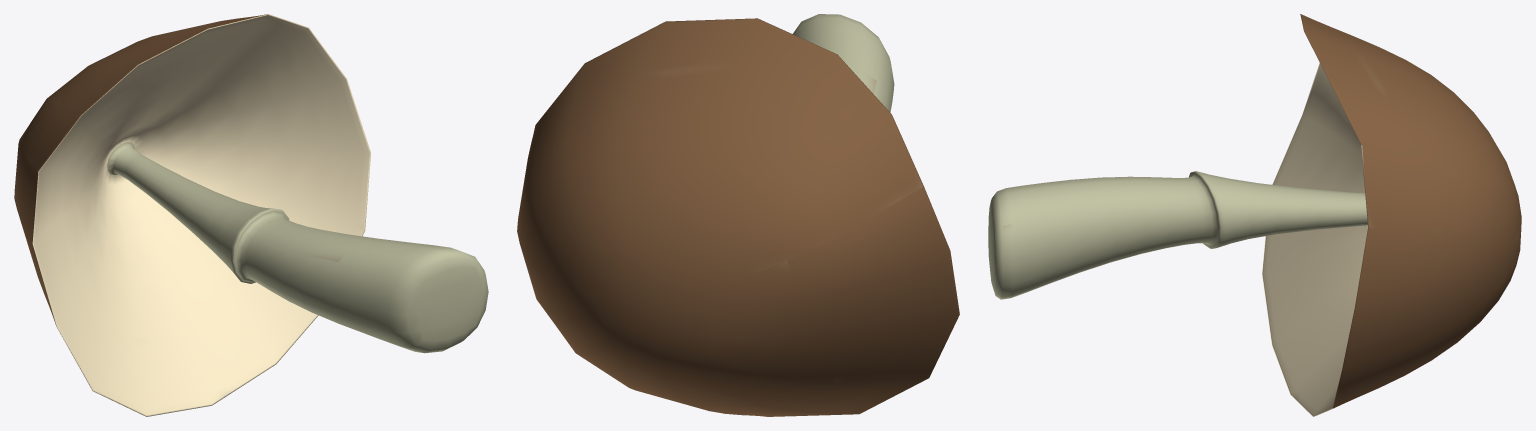
File: mushroom.fbx
3 renders of one model, left to right at view 1: azimuth 30°, elevation 25°; view 2: azimuth 150°, elevation 25°; view 3: azimuth 270°, elevation 25°, orthographic. The views are drawn at different scales.
Parts seen in each view (by area): view 1: Cube.001; view 2: Cube.001; view 3: Cube.001.
Part boxes in pixels (x1,y1,x2,y2): Cube.001: [14, 14, 488, 416]; Cube.001: [517, 14, 959, 416]; Cube.001: [988, 14, 1521, 416].
Size of the model in its own units: 66.35 by 64.4 by 85.41.
